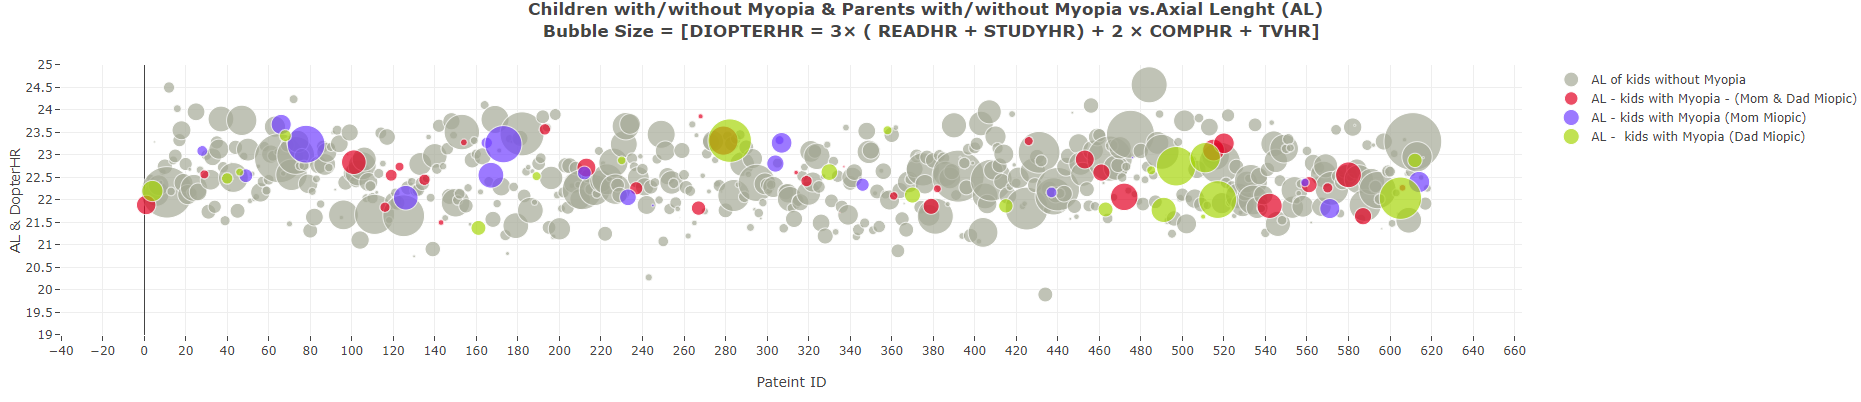

What the dashboard file says about the page in this screenshot:
{"tool":"tableau","page":{"name":"Dashboard 1","canvas":[1000,1000],"units":"permille","ordinal":0},"visuals":[{"type":"worksheet","title":"Sheet 1","mark":"Circle","box":[6.1,9.3,493.9,447.1]},{"type":"worksheet","title":"Sheet 3","mark":"Shape","rows":["SPORTHR","AL"],"cols":["ID"],"box":[500,9.3,493.9,981.4]},{"type":"worksheet","title":"Sheet 3 (2)","mark":"Shape","rows":["DIOPTERHR"],"cols":["ID"],"box":[6.1,456.4,493.9,447.1]},{"type":"legend","title":"Sheet 3","param":"[federated.0x5gwuc06e6hji147j1o91smt3gz].[none:GENDER:qk]","box":[6.1,903.5,70.5,87.2]},{"type":"legend","title":"Sheet 3","param":"[federated.0x5gwuc06e6hji147j1o91smt3gz].[none:GENDER:ok]","box":[76.5,903.5,80.3,87.2]},{"type":"legend","title":"Sheet 3","param":"[federated.0x5gwuc06e6hji147j1o91smt3gz].[sum:MYOPIC:qk]","box":[156.8,903.5,73.5,87.2]},{"type":"legend","title":"Sheet 1","param":"[federated.0x5gwuc06e6hji147j1o91smt3gz].[ID (clusters)]","box":[230.3,903.5,269.7,87.2]}]}

Visuals, with their boxes on the dashboard's canvas, which has no fixed pixel size, in thousandths of its width and height (x1, y1, x2, y2). These are canvas units, not pixel positions in the 1861x402 screenshot, which may show the page scaled, cropped or inside an application window:
"Sheet 1" worksheet (Circle marks): x1=6, y1=9, x2=500, y2=456
"Sheet 3" worksheet (Shape marks): x1=500, y1=9, x2=994, y2=991
"Sheet 3 (2)" worksheet (Shape marks): x1=6, y1=456, x2=500, y2=904
"Sheet 3" legend: x1=6, y1=904, x2=77, y2=991
"Sheet 3" legend: x1=76, y1=904, x2=157, y2=991
"Sheet 3" legend: x1=157, y1=904, x2=230, y2=991
"Sheet 1" legend: x1=230, y1=904, x2=500, y2=991
